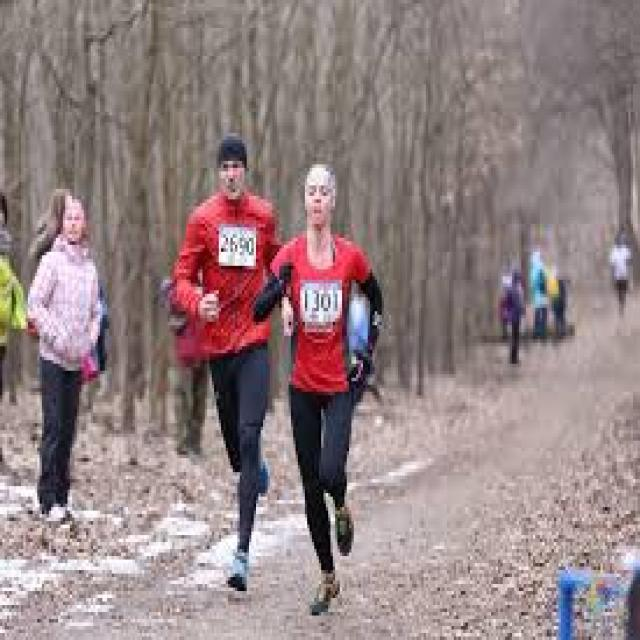running: (176, 136, 279, 595), (280, 163, 384, 616)
standing: (24, 196, 103, 526)
